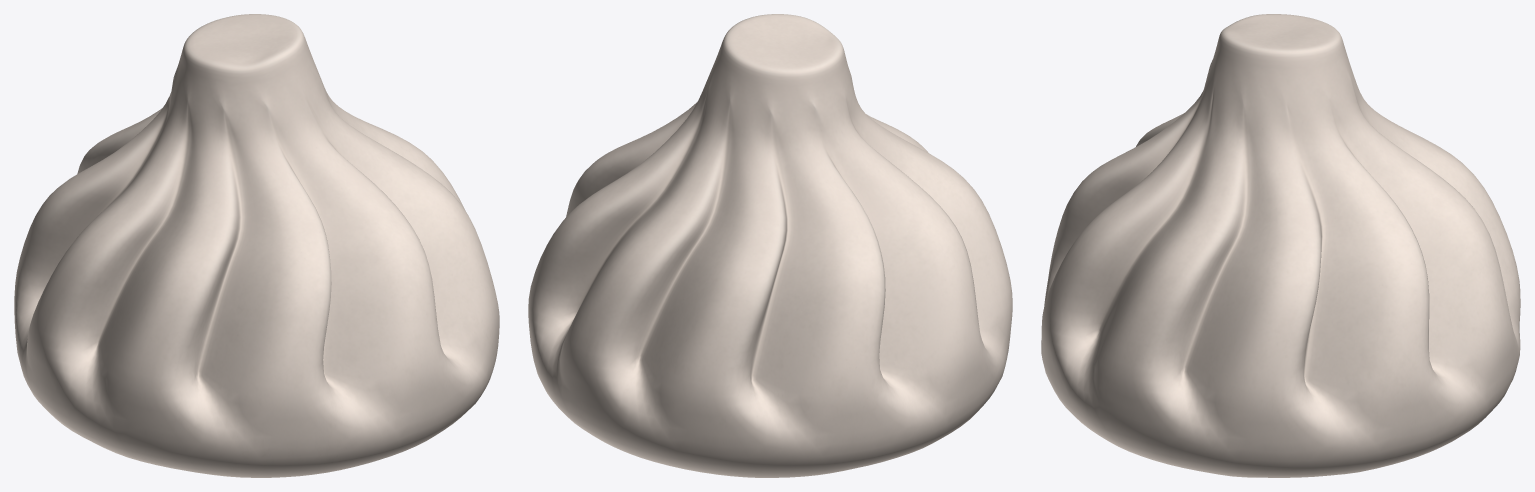
The model's file is dumplings_khinkali_01.fbx.
3 renders of one model, left to right at view 1: azimuth 30°, elevation 25°; view 2: azimuth 150°, elevation 25°; view 3: azimuth 270°, elevation 25°, orthographic.
Visible parts, largest first — view 1: khinkali; view 2: khinkali; view 3: khinkali.
Boxes of the visible parts, x1,y1,x2,y2 form: khinkali: (14,14,499,477); khinkali: (528,14,1012,477); khinkali: (1041,14,1520,477).
Size of the model in its own units: 4.52 by 3.93 by 4.45.
Materials: 1 (1 with a texture image).
